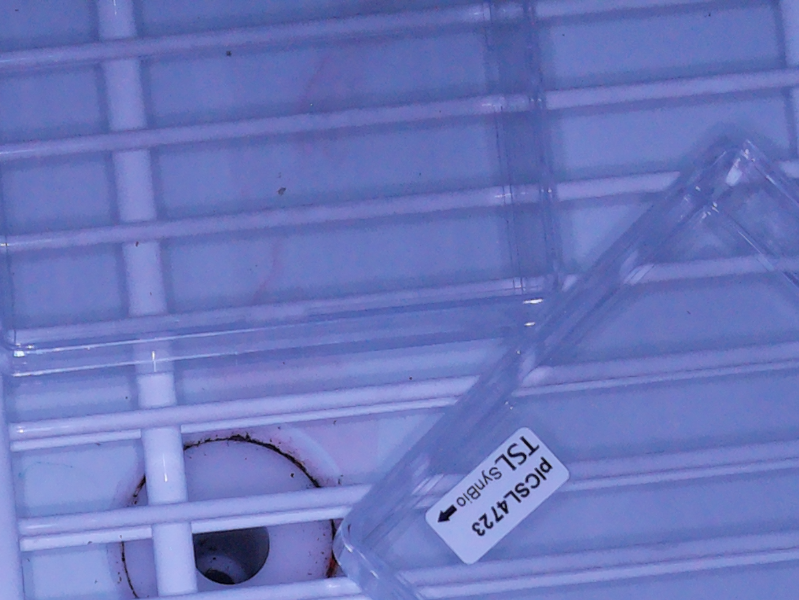plate: (330, 135, 799, 600), (1, 1, 564, 368)
